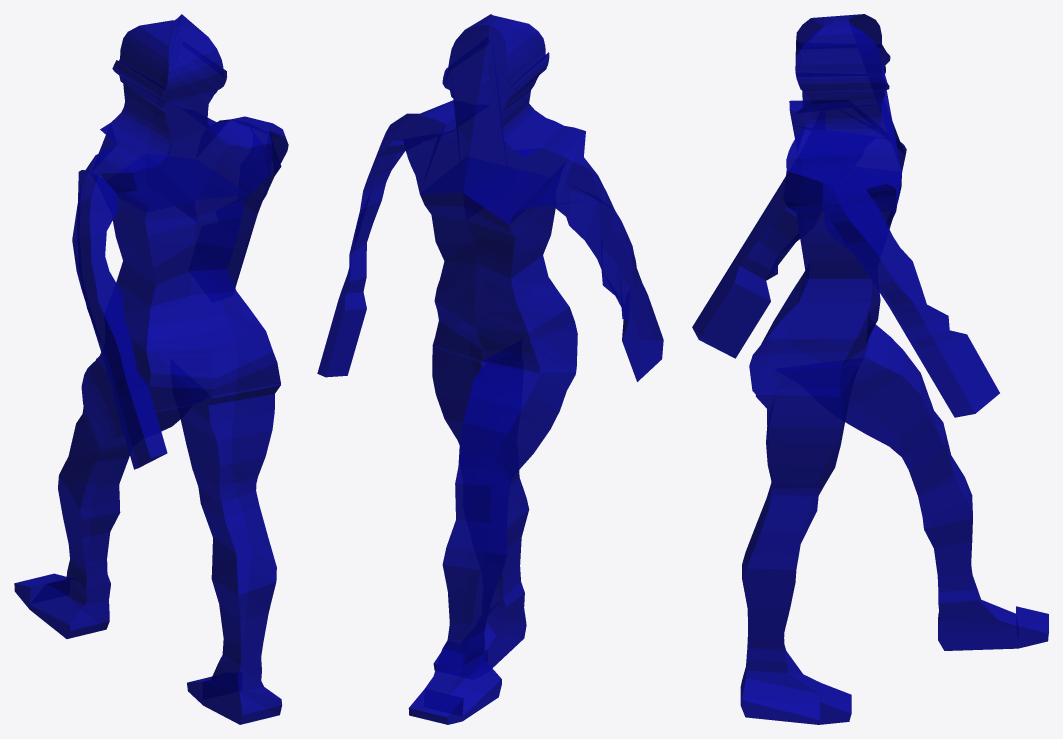
The model's file is woman_000013.obj.
The picture shows the model from 3 angles, left to right: view 1: azimuth 30°, elevation 25°; view 2: azimuth 150°, elevation 25°; view 3: azimuth 270°, elevation 25°; orthographic projection. The views are drawn at different scales.
Parts seen in each view (by area): view 1: Cube_Cube.001; view 2: Cube_Cube.001; view 3: Cube_Cube.001.
Boxes of the visible parts, x1,y1,x2,y2 form: Cube_Cube.001: (14,14,288,724); Cube_Cube.001: (317,14,663,724); Cube_Cube.001: (692,14,1048,724).
Size of the model in its own units: 3.53 by 9.98 by 4.76.
